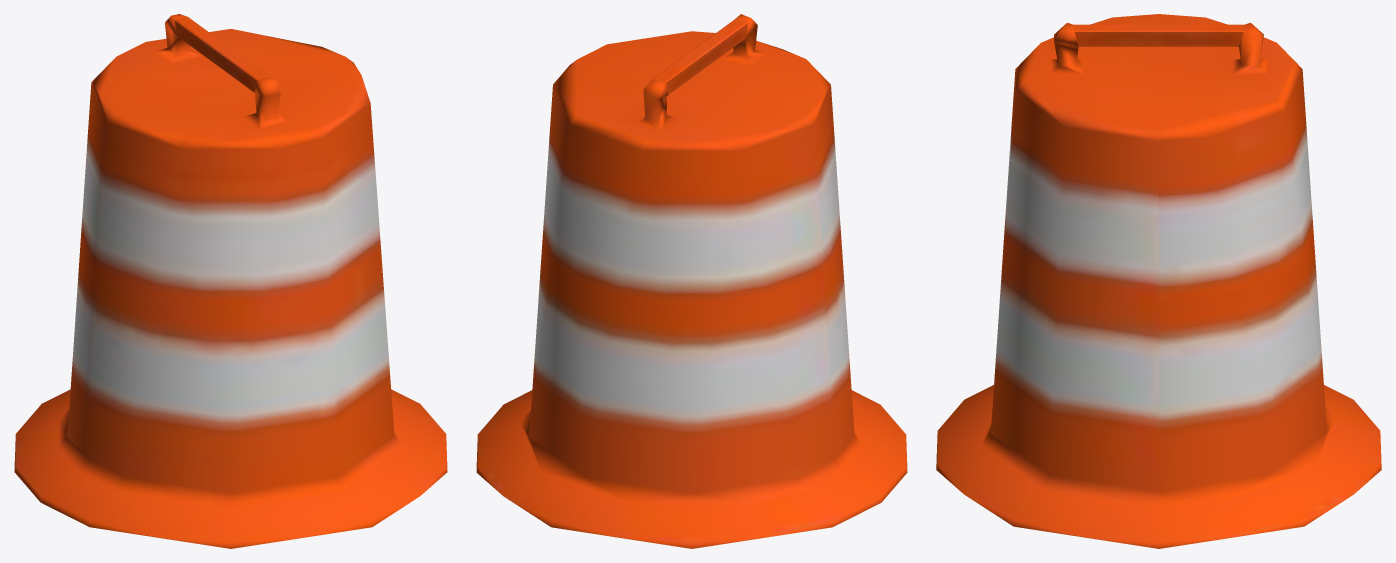
The model's file is traffic-drum.lod1.glb.
3 views of the same model, side by side, from view 1: azimuth 30°, elevation 25°; view 2: azimuth 150°, elevation 25°; view 3: azimuth 270°, elevation 25° (orthographic). The views are drawn at different scales.
Parts seen in each view (by area): view 1: Object_13; view 2: Object_13; view 3: Object_13.
Boxes of the visible parts, left/top/right/bottom form: Object_13: left=14, top=14, right=447, bottom=548; Object_13: left=476, top=14, right=907, bottom=548; Object_13: left=936, top=14, right=1381, bottom=548.
Size of the model in its own units: 0.6559 by 0.6773 by 0.646.
1 material, 1 textured.
